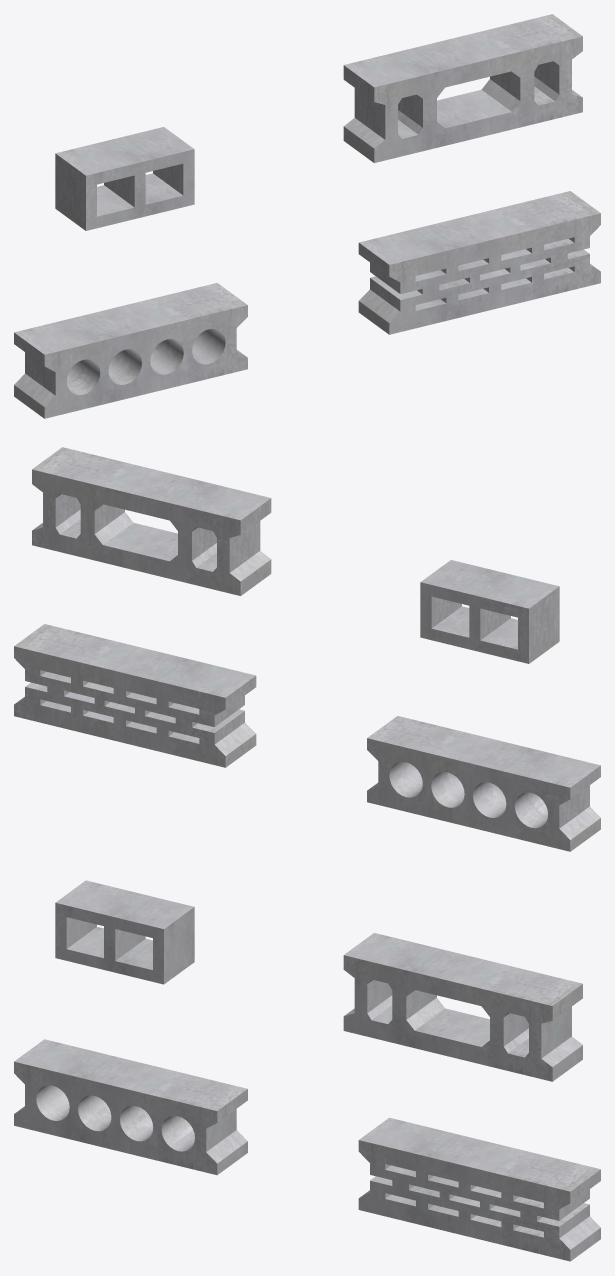
File: hollow-block-forms.glb
The picture shows the model from 3 angles, top to bottom: view 1: azimuth 30°, elevation 25°; view 2: azimuth 150°, elevation 25°; view 3: azimuth 330°, elevation 25°; orthographic projection.
Parts seen in each view (by area): view 1: 单排组合孔, 多排扁孔, 单排圆孔, 单排双孔; view 2: 单排组合孔, 多排扁孔, 单排圆孔, 单排双孔; view 3: 单排组合孔, 多排扁孔, 单排圆孔, 单排双孔.
Part boxes in pixels (x1,y1,x2,y2): 单排组合孔: (343, 14, 582, 162); 多排扁孔: (358, 191, 600, 334); 单排圆孔: (14, 283, 247, 418); 单排双孔: (55, 127, 194, 230); 单排组合孔: (32, 447, 271, 595); 多排扁孔: (14, 624, 256, 767); 单排圆孔: (367, 716, 600, 851); 单排双孔: (420, 560, 559, 663); 单排组合孔: (343, 933, 582, 1081); 多排扁孔: (358, 1117, 600, 1261); 单排圆孔: (14, 1039, 247, 1175); 单排双孔: (55, 880, 194, 984).
Size of the model in its own units: 2 by 0.8616 by 0.19.
4 materials, 4 textured.
